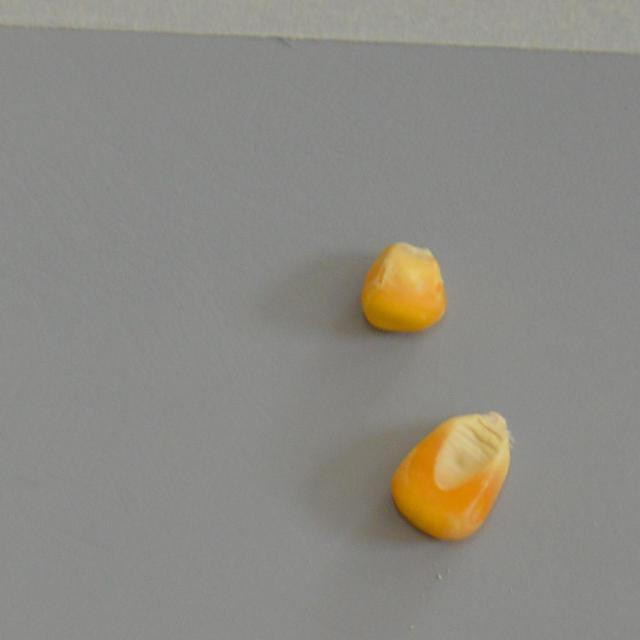dañado: (358, 234, 452, 337)
entero: (388, 407, 516, 550)
